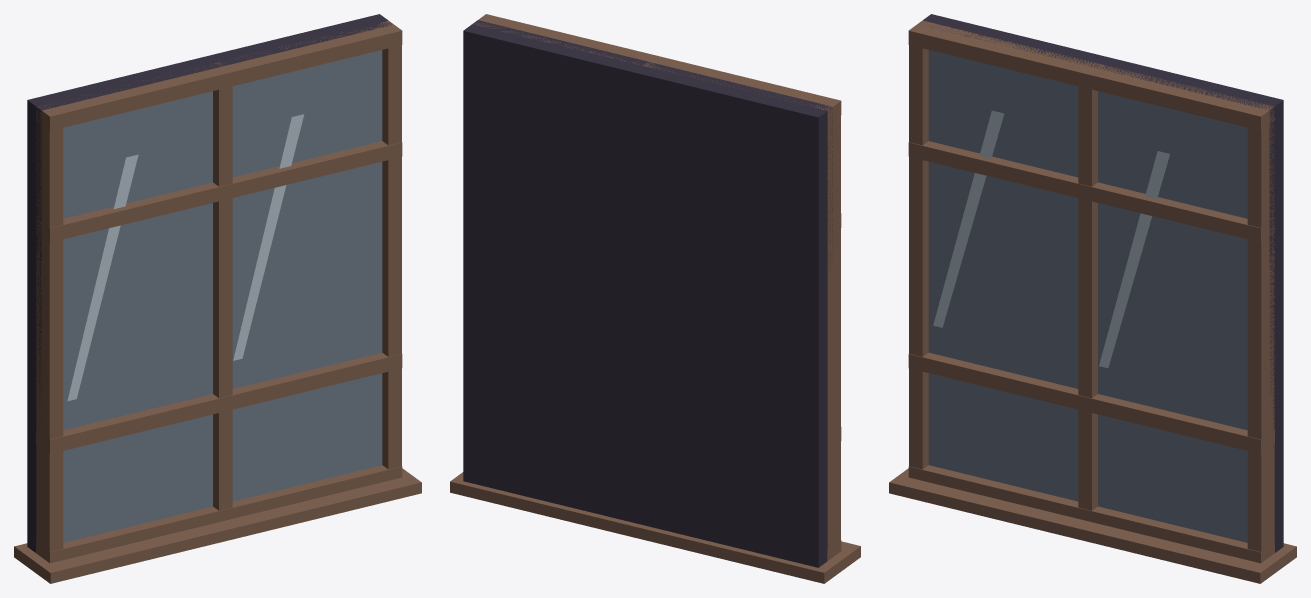
The model's file is SM_Cafe_Window_168x205.fbx.
3 renders of one model, left to right at view 1: azimuth 30°, elevation 25°; view 2: azimuth 150°, elevation 25°; view 3: azimuth 330°, elevation 25°, orthographic.
Parts seen in each view (by area): view 1: SM_Cafe_Window_168x205; view 2: SM_Cafe_Window_168x205; view 3: SM_Cafe_Window_168x205.
Boxes of the visible parts, <box> form: SM_Cafe_Window_168x205: <box>14,14,421,583</box>; SM_Cafe_Window_168x205: <box>450,14,860,583</box>; SM_Cafe_Window_168x205: <box>889,14,1296,583</box>.
Bounding box in the file's own units: 1.77 × 0.3 × 2.08.
